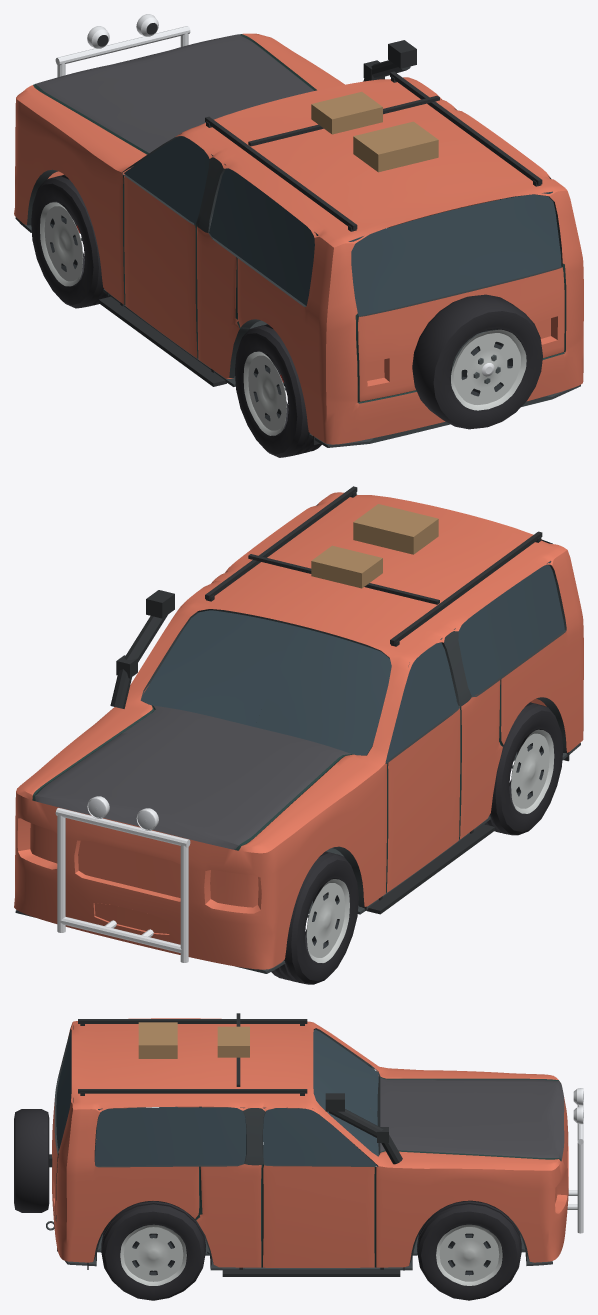
Rendered from forge_closed_4x4_lod2.fbx.
The picture shows the model from 3 angles, top to bottom: view 1: azimuth 30°, elevation 25°; view 2: azimuth 150°, elevation 25°; view 3: azimuth 270°, elevation 25°; orthographic projection. The views are drawn at different scales.
Visible parts, largest first — view 1: Body, Wheel_RL_Mesh, Wheel_FL_Mesh; view 2: Body, Wheel_FL_Mesh, Wheel_RL_Mesh; view 3: Body, Wheel_FR_Mesh, Wheel_RR_Mesh.
Part boxes in pixels (x1,y1,x2,y2): Body: (14, 14, 583, 447); Wheel_RL_Mesh: (235, 324, 321, 457); Wheel_FL_Mesh: (31, 175, 109, 308); Body: (14, 486, 583, 973); Wheel_FL_Mesh: (271, 851, 358, 984); Wheel_RL_Mesh: (484, 702, 563, 835); Body: (14, 1013, 583, 1276); Wheel_FR_Mesh: (417, 1200, 521, 1300); Wheel_RR_Mesh: (101, 1201, 205, 1300).
Bounding box in the file's own units: 173 × 166 × 392.
